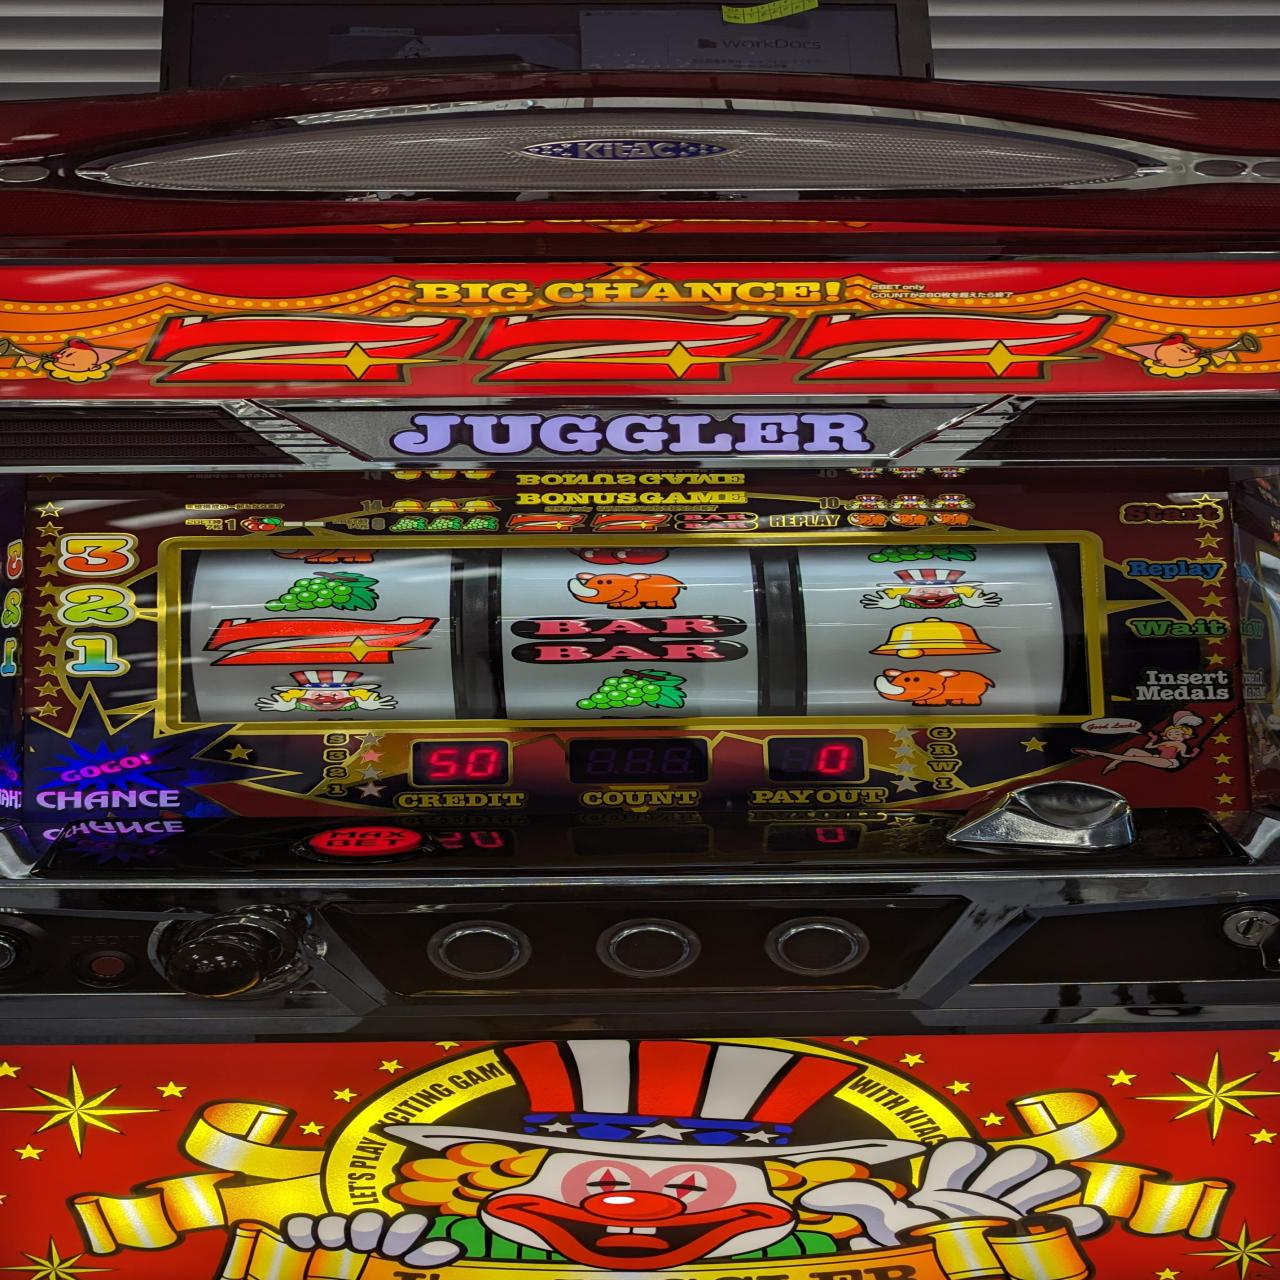7: (199, 614, 444, 666)
Display: (172, 530, 1096, 716)
bar: (506, 612, 751, 667)
bell: (865, 615, 1006, 660)
clown: (252, 666, 400, 713), (858, 568, 1003, 613)
grape: (573, 667, 697, 714), (260, 568, 384, 613)
rhino: (867, 666, 1001, 709), (558, 568, 692, 611)
